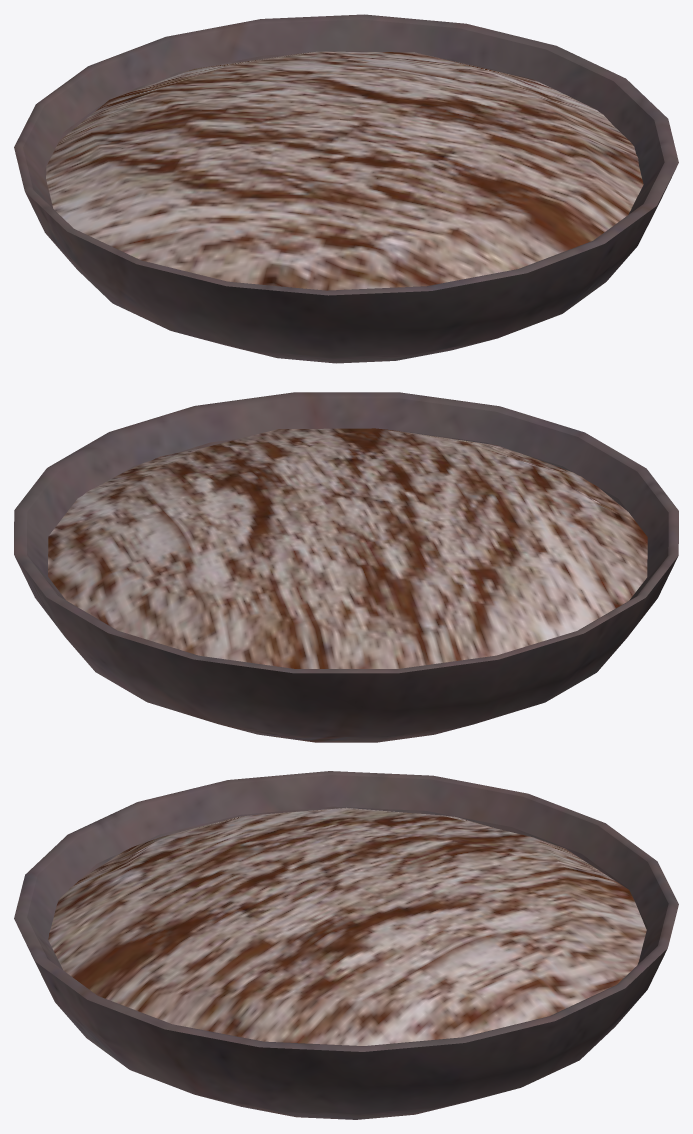
File: Metal_Tub_1.fbx
3 views of the same model, one above another, from view 1: azimuth 30°, elevation 25°; view 2: azimuth 150°, elevation 25°; view 3: azimuth 270°, elevation 25° (orthographic).
Parts seen in each view (by area): view 1: Metal Tub_1; view 2: Metal Tub_1; view 3: Metal Tub_1.
Boxes of the visible parts, left/top/right/bottom form: Metal Tub_1: left=14, top=14, right=678, bottom=363; Metal Tub_1: left=14, top=392, right=678, bottom=742; Metal Tub_1: left=14, top=771, right=678, bottom=1119.
Bounding box in the file's own units: 1.03 × 0.3132 × 1.03.
